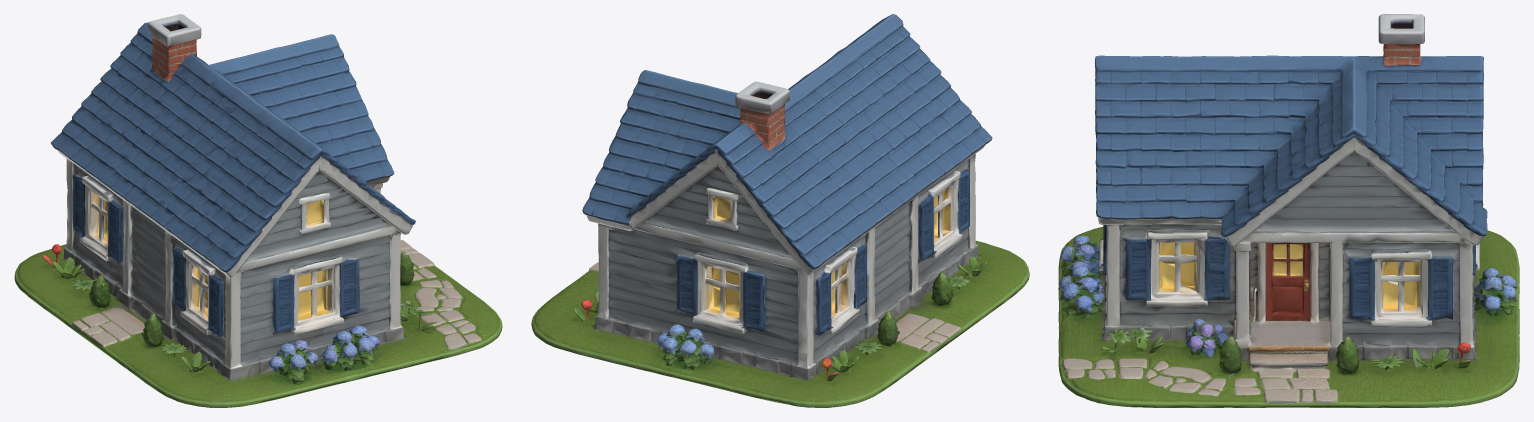
Rendered from house_1story_grey.glb.
3 renders of one model, left to right at view 1: azimuth 30°, elevation 25°; view 2: azimuth 150°, elevation 25°; view 3: azimuth 270°, elevation 25°, orthographic. The views are drawn at different scales.
Parts seen in each view (by area): view 1: tripo_node_f3555cda-fe0b-46fb-aaca-c97f07216f3d; view 2: tripo_node_f3555cda-fe0b-46fb-aaca-c97f07216f3d; view 3: tripo_node_f3555cda-fe0b-46fb-aaca-c97f07216f3d.
Boxes of the visible parts, x1=… form: tripo_node_f3555cda-fe0b-46fb-aaca-c97f07216f3d: x1=14, y1=14, x2=502, y2=407; tripo_node_f3555cda-fe0b-46fb-aaca-c97f07216f3d: x1=531, y1=14, x2=1029, y2=407; tripo_node_f3555cda-fe0b-46fb-aaca-c97f07216f3d: x1=1058, y1=14, x2=1519, y2=407.
Size of the model in its own units: 0.9293 by 0.6627 by 1.
1 material, 1 textured.
